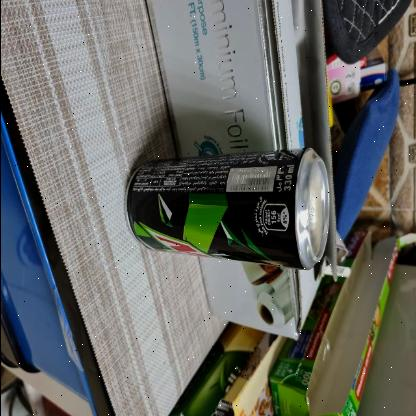Can: (124, 147, 330, 269)
